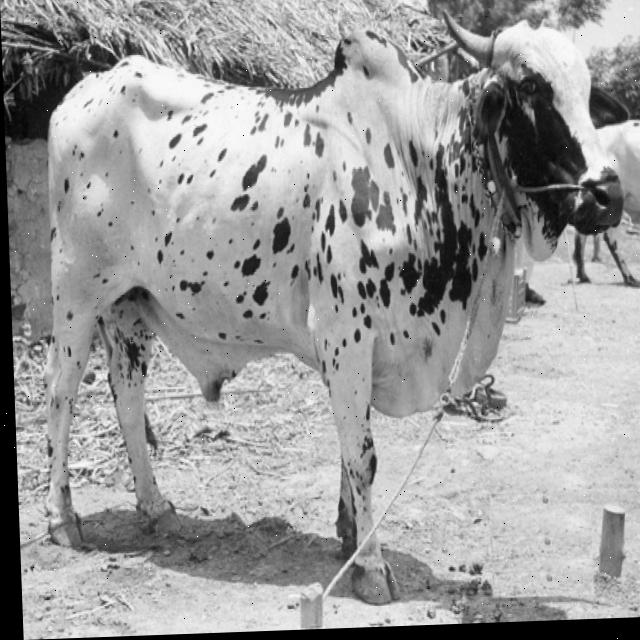Cow: (25, 2, 640, 617)
